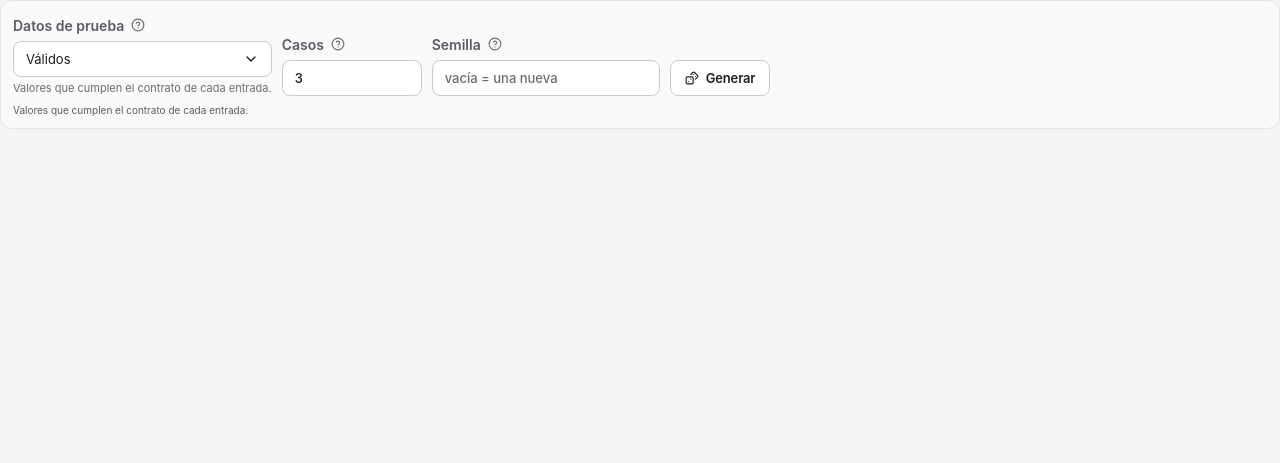
Test case: tipos de salida › pide la cobertura por su propio camino y enseña lo que NO se alcanzó
This screenshot has width=1280, height=463.
Click the dropdown named "Datos de prueba": click(142, 59) [13,41,272,77]
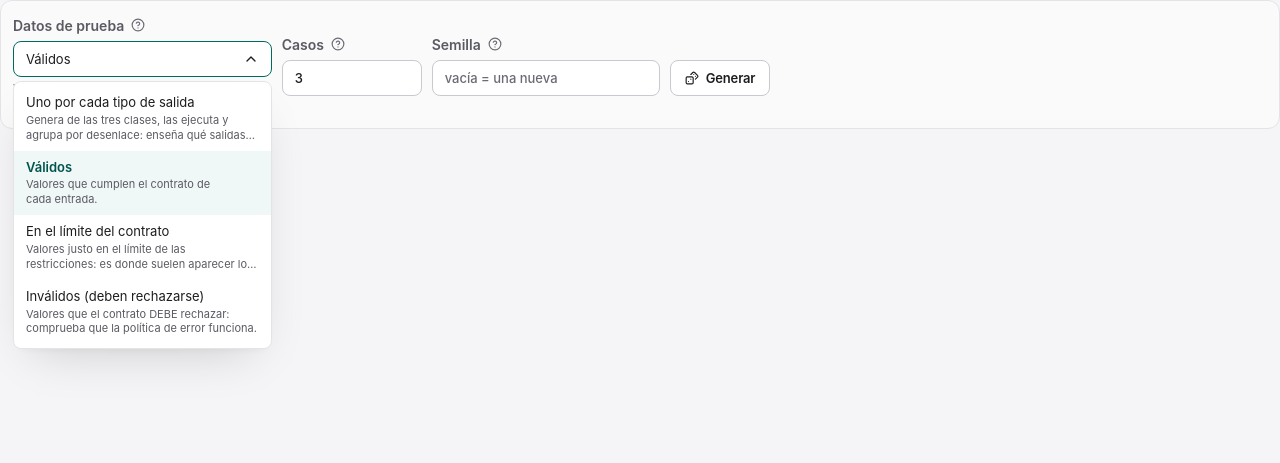
Click the option with aria-label "Genera de las tres clases, las ejecuta y agrupa por desenlac": click(142, 118) [14,86,271,151]
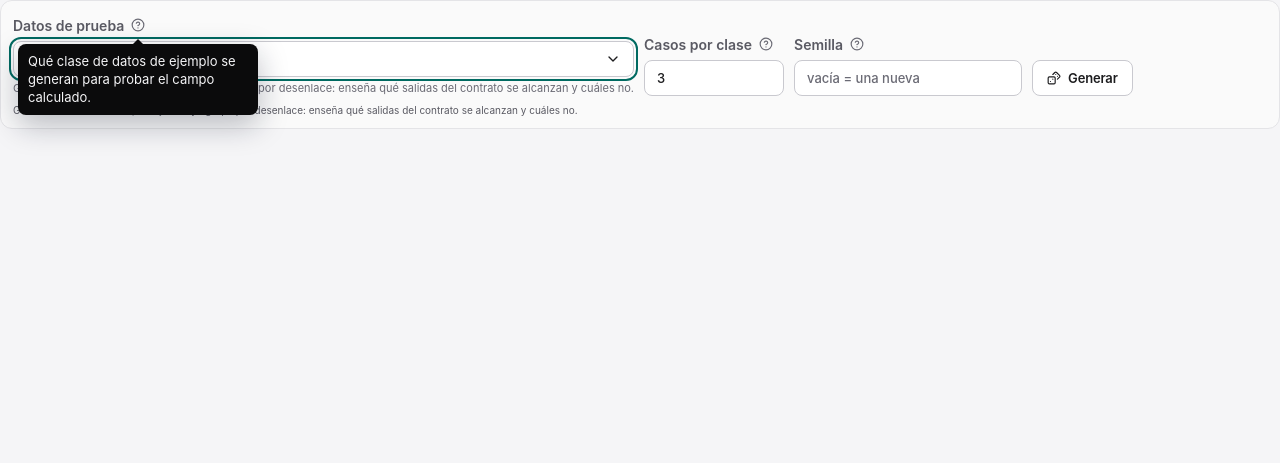
Click the button "Generar": click(1082, 78) [1032,60,1133,96]
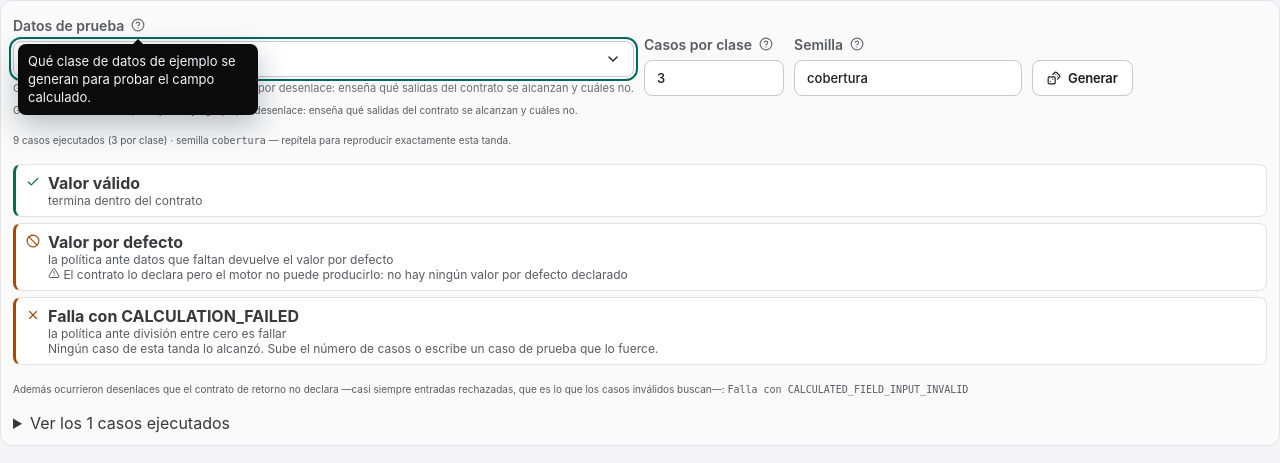
Expected: the text "Falla con CALCULATION_FAILED" is shown, [48,306,299,326]
Expected: the text "Ningún caso de esta tanda lo alcanzó" is shown, [48,341,658,356]
